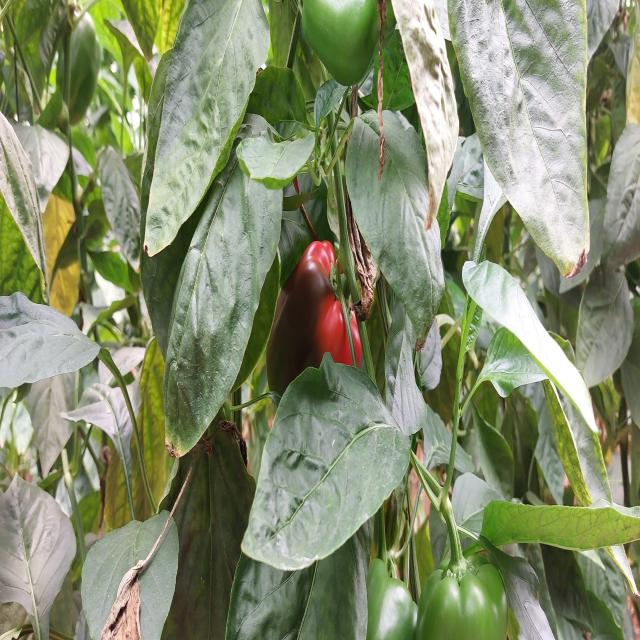BrownishRed--Can-be-Harvested: (269, 239, 361, 407)
Green--Not-ready-to-harvest: (416, 553, 509, 638), (302, 1, 383, 83), (366, 558, 417, 640)
